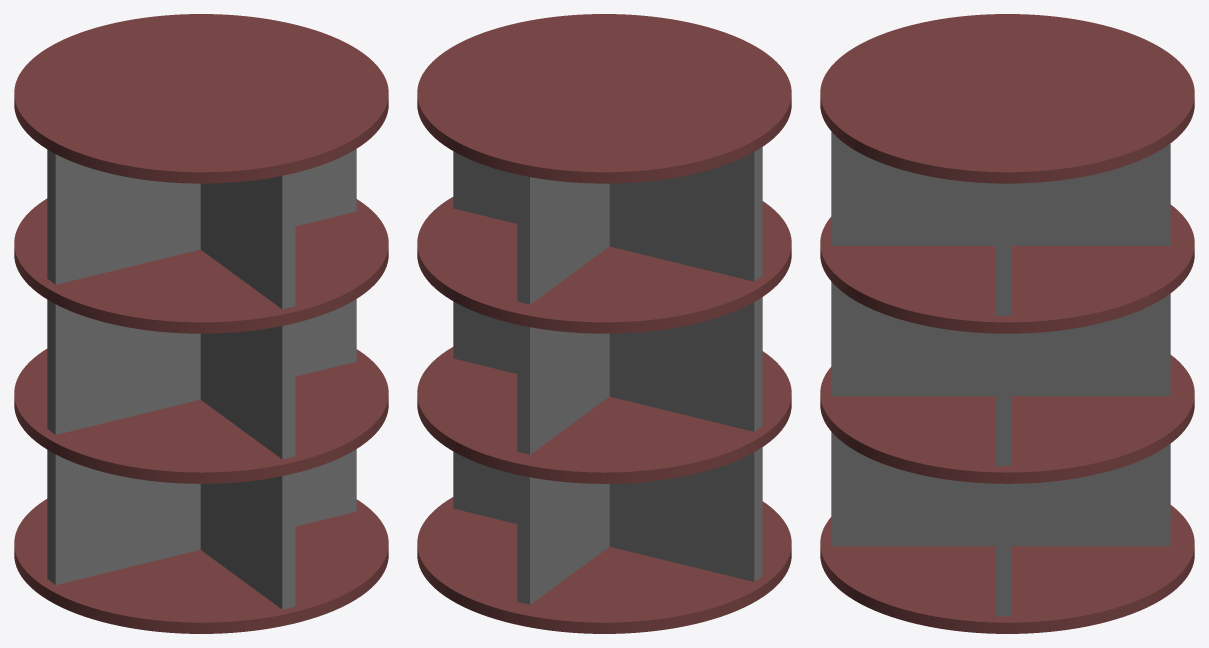
The model's file is lazy susan.fbx.
3 views of the same model, side by side, from view 1: azimuth 30°, elevation 25°; view 2: azimuth 150°, elevation 25°; view 3: azimuth 270°, elevation 25° (orthographic).
Visible parts, largest first — view 1: Cylinder004, Box001; view 2: Cylinder004, Box001; view 3: Cylinder004, Box001.
Boxes of the visible parts, box(x1,y1,x2,y2) form: Cylinder004: box(14, 14, 388, 633); Box001: box(47, 149, 356, 609); Cylinder004: box(417, 14, 791, 633); Box001: box(453, 147, 762, 604); Cylinder004: box(820, 14, 1194, 633); Box001: box(831, 131, 1170, 616).
Size of the model in its own units: 37.6 by 51.15 by 37.6.
